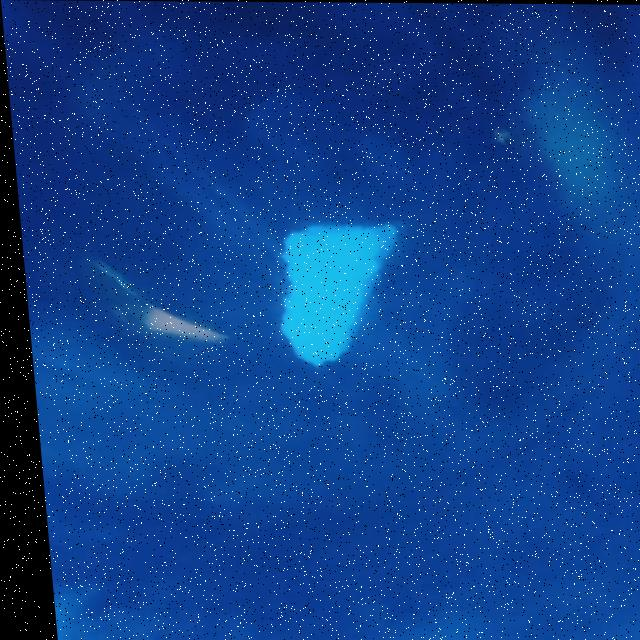thermocoal: (247, 205, 431, 376)
